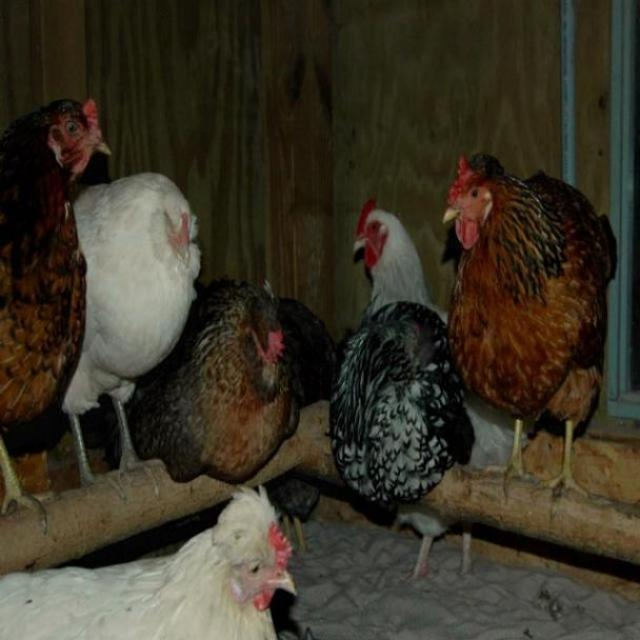Chicken: (330, 195, 539, 591), (445, 144, 617, 514), (0, 94, 114, 536), (0, 481, 302, 640), (70, 174, 205, 511), (116, 268, 307, 490)
